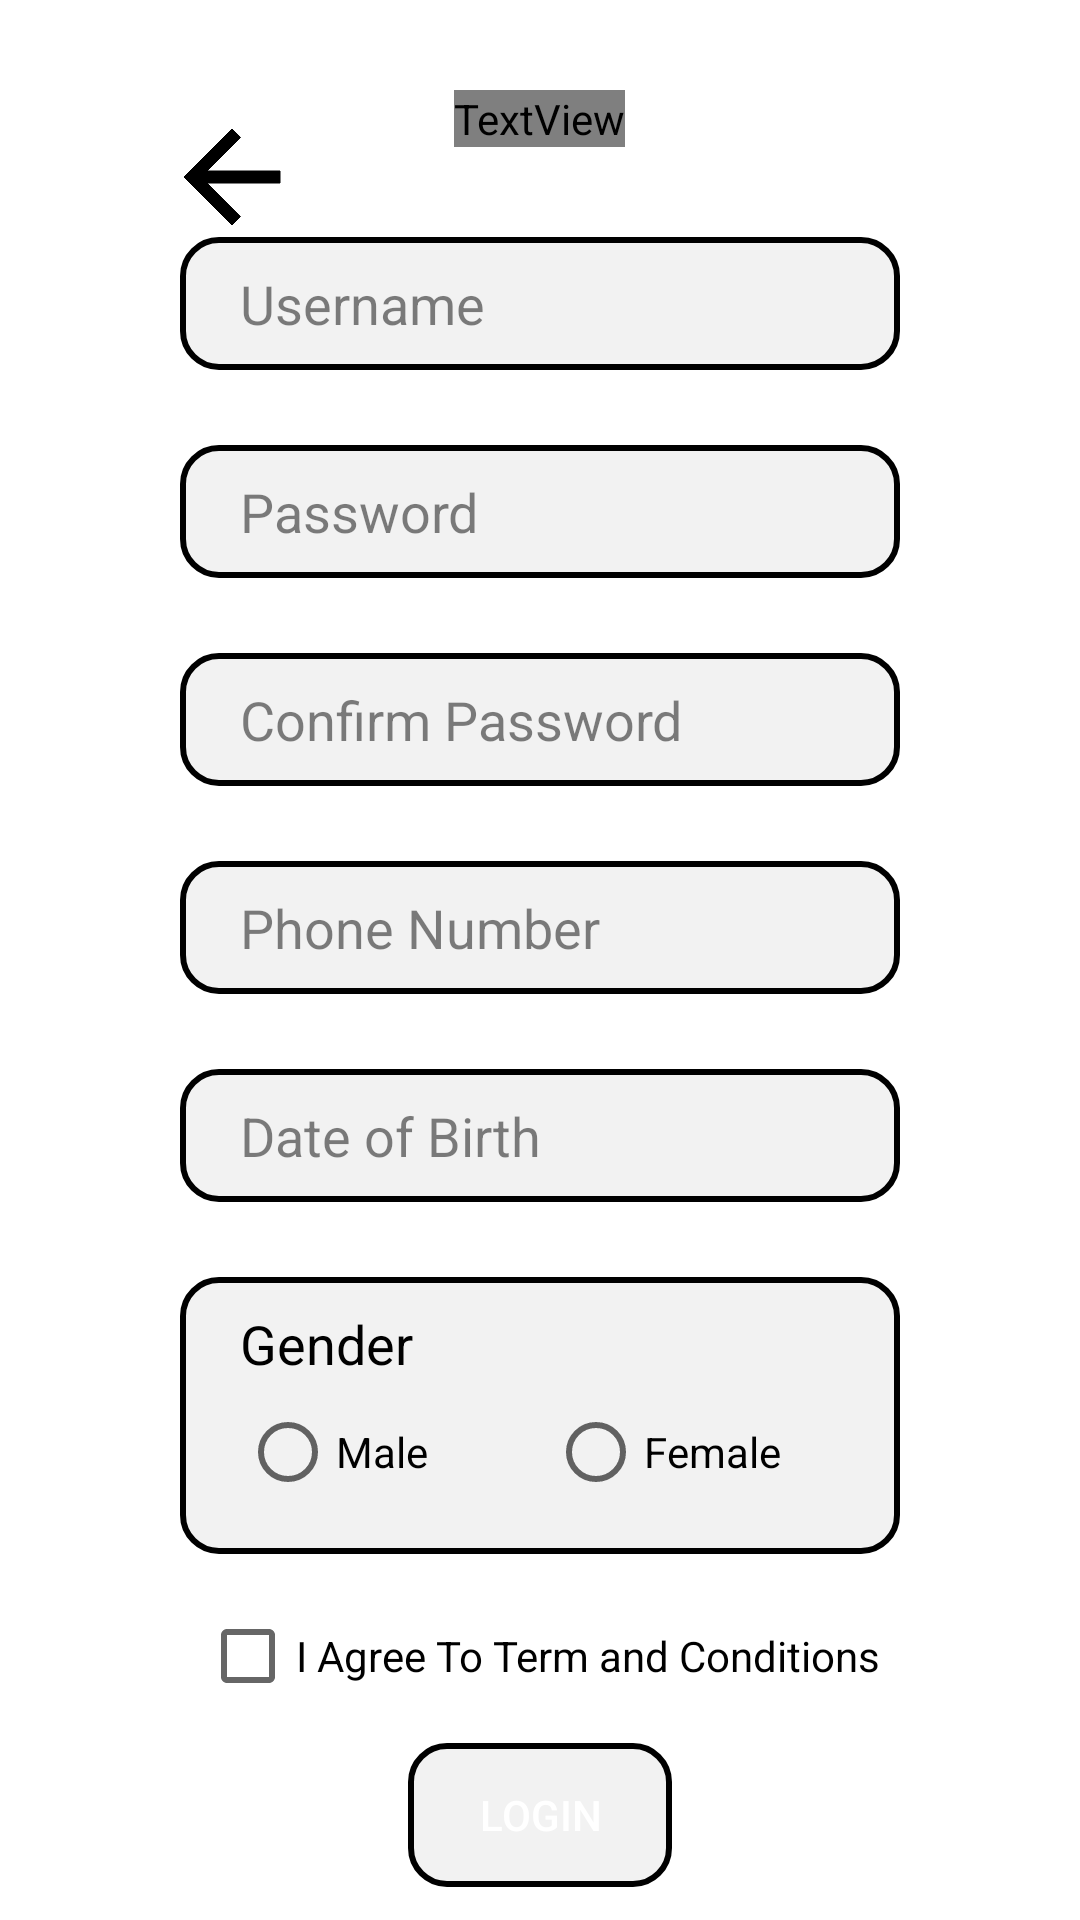

Icons on this 1080*1920 Android screen, each with the point to tap as (x=x, y=y):
arrow: (x=232, y=177)
